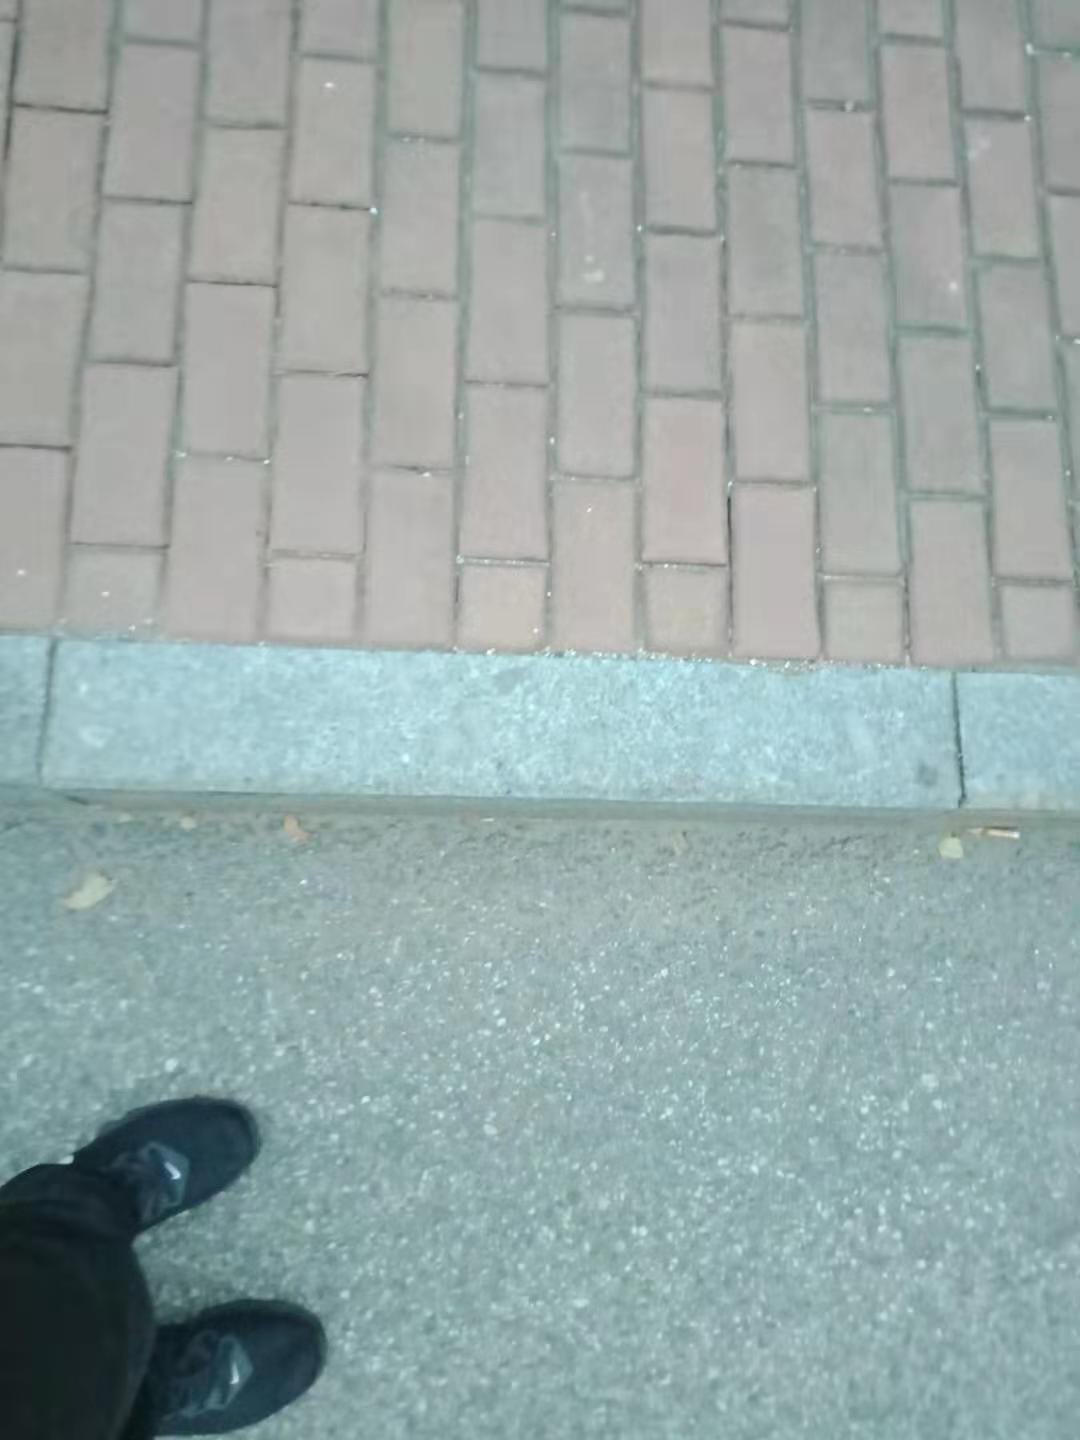side: (45, 641, 962, 819)
